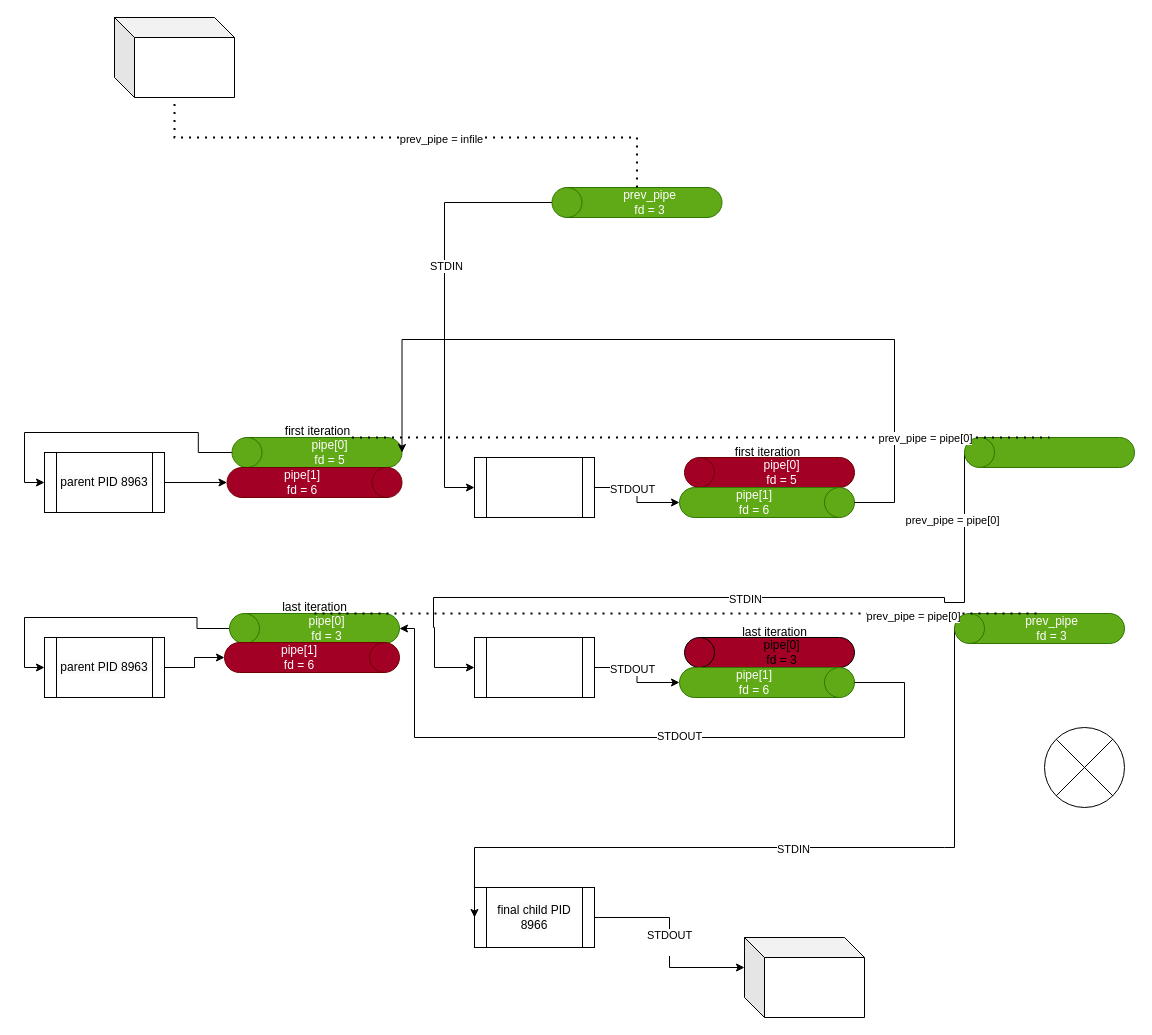
Image size: 1152x1035. Some labels were removed from this diagram. The box of each missing label's shape, as (x1, y1, x2, y2) in pixels:
child 1 PID 8964: (474, 456, 594, 518)
child 2 PID 8965: (474, 636, 594, 698)
infille fd = 3: (114, 16, 234, 98)
outfile fd = 4: (744, 936, 864, 1018)
prev_pipe fd = 5: (964, 436, 1134, 468)
